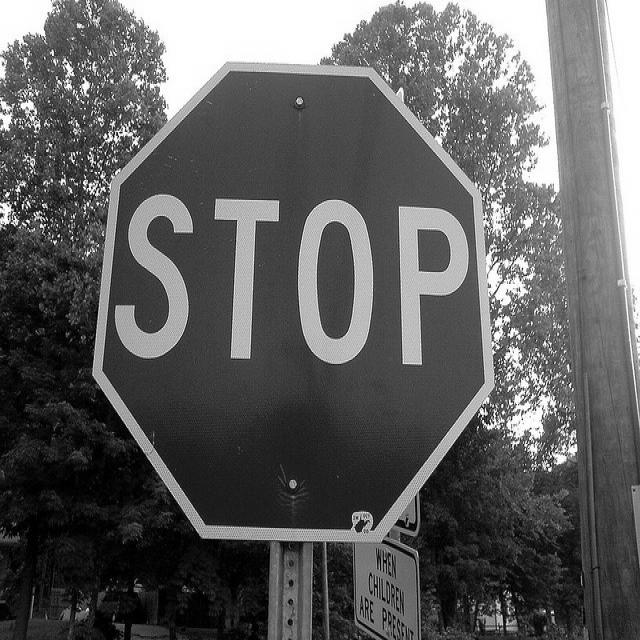car: (96, 588, 140, 623)
pole: (539, 0, 638, 637)
